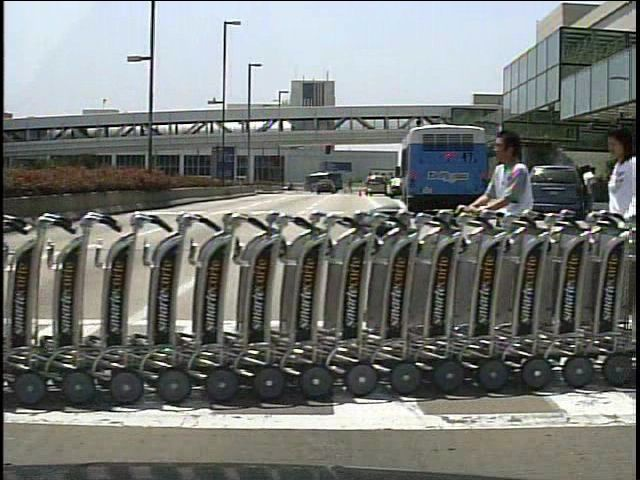person: (458, 125, 549, 364), (588, 117, 635, 332), (576, 163, 595, 218), (581, 164, 601, 215), (346, 176, 353, 196)
